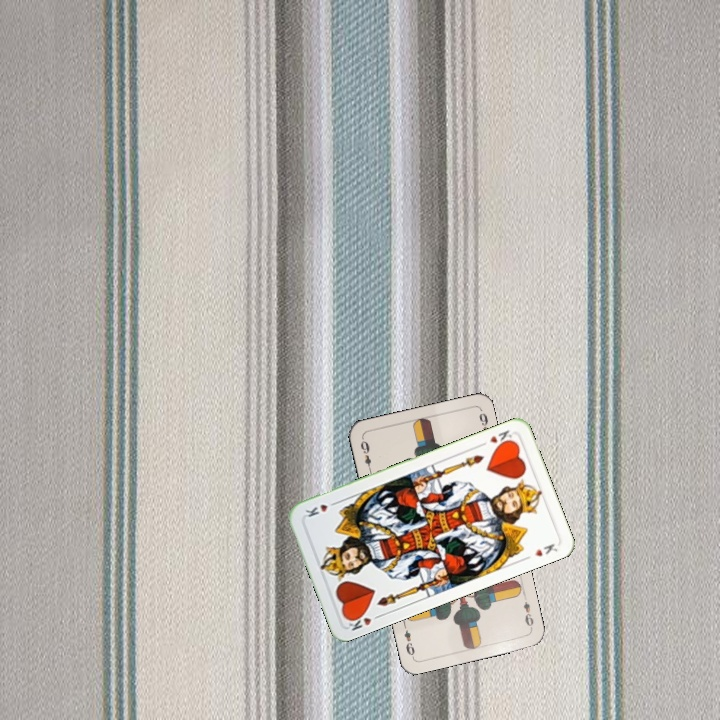E9: (356, 435, 374, 475), (519, 591, 536, 631)
HK: (344, 607, 384, 633), (476, 426, 516, 450)
